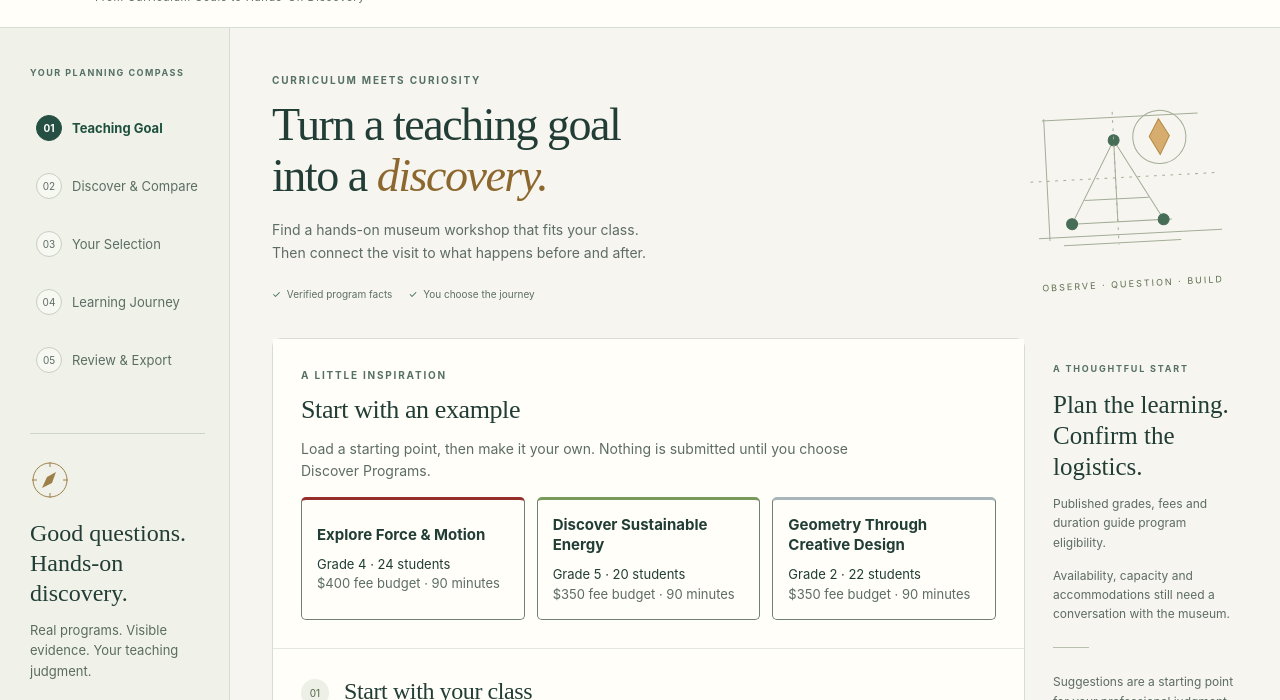
submits current edits only after deliberate validation and consent
Click the button with aria-label "Load Explore Force & Motion example": [413, 558] box [301,497,525,620]
(page scrolled)
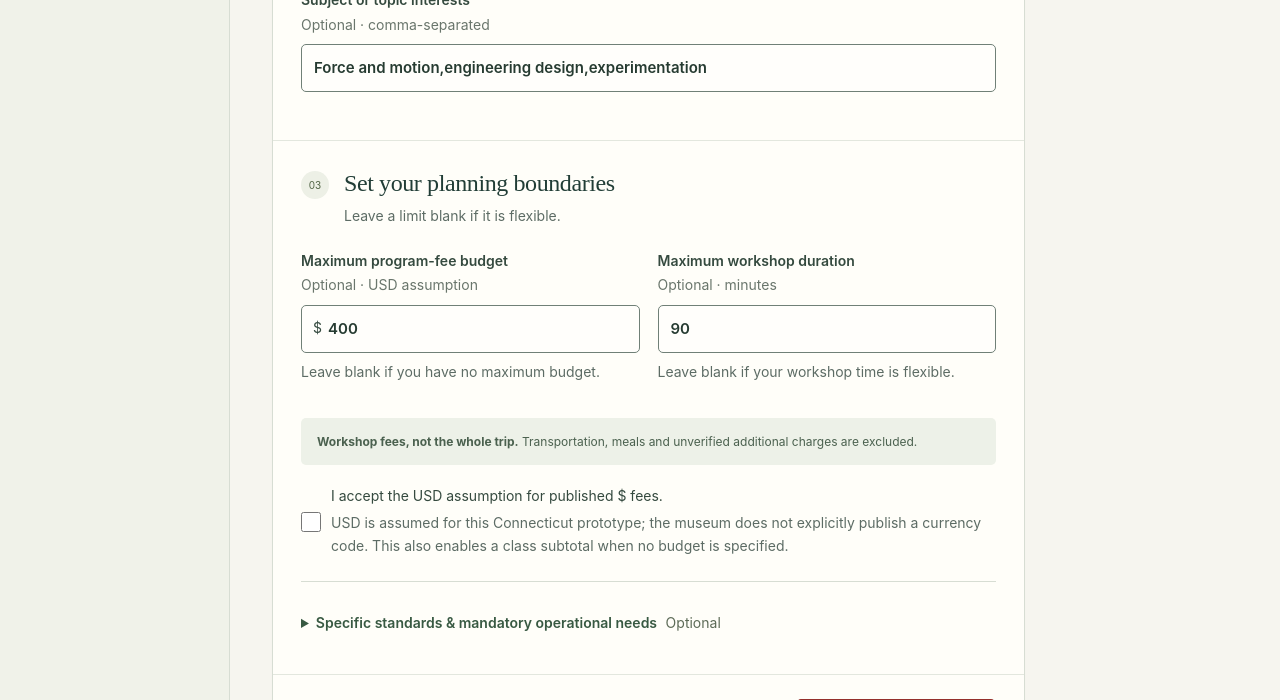
Replace the text in the number field labelled "Maximum program-fee budget" with "380": [470, 329] box [301,305,640,353]
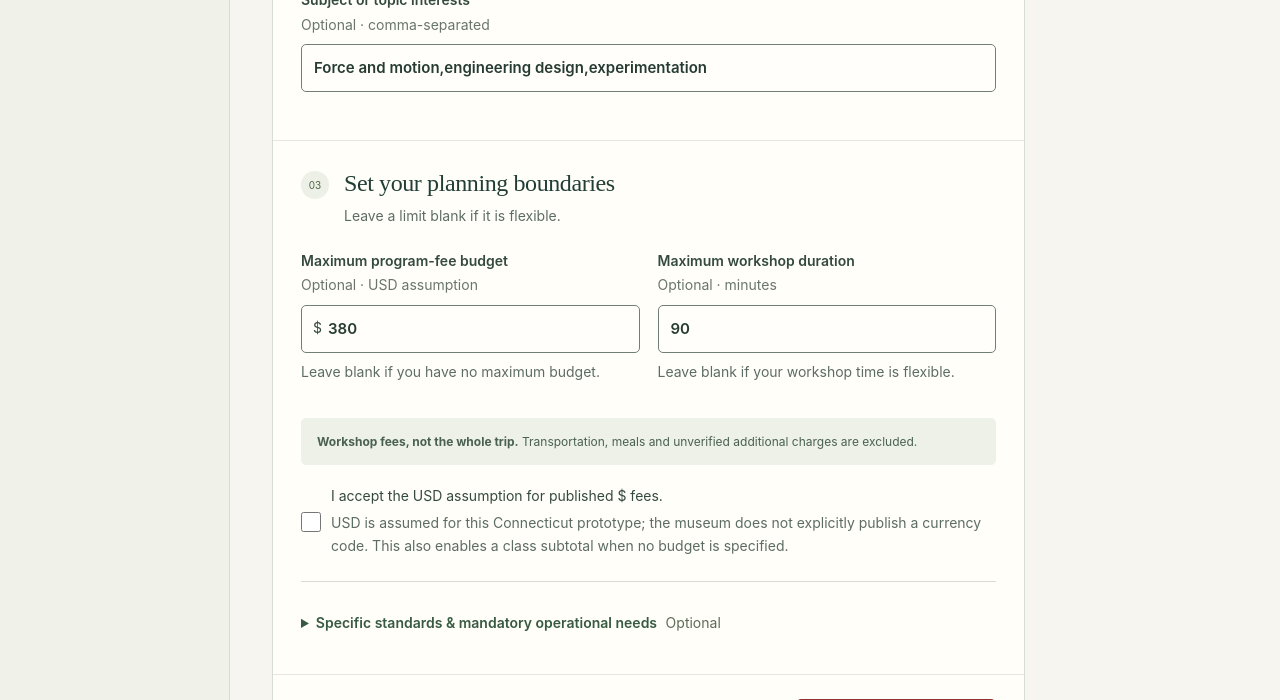
Replace the text in the number field labelled "Maximum workshop duration" with "75": [827, 329] box [658,305,996,353]
(page scrolled)
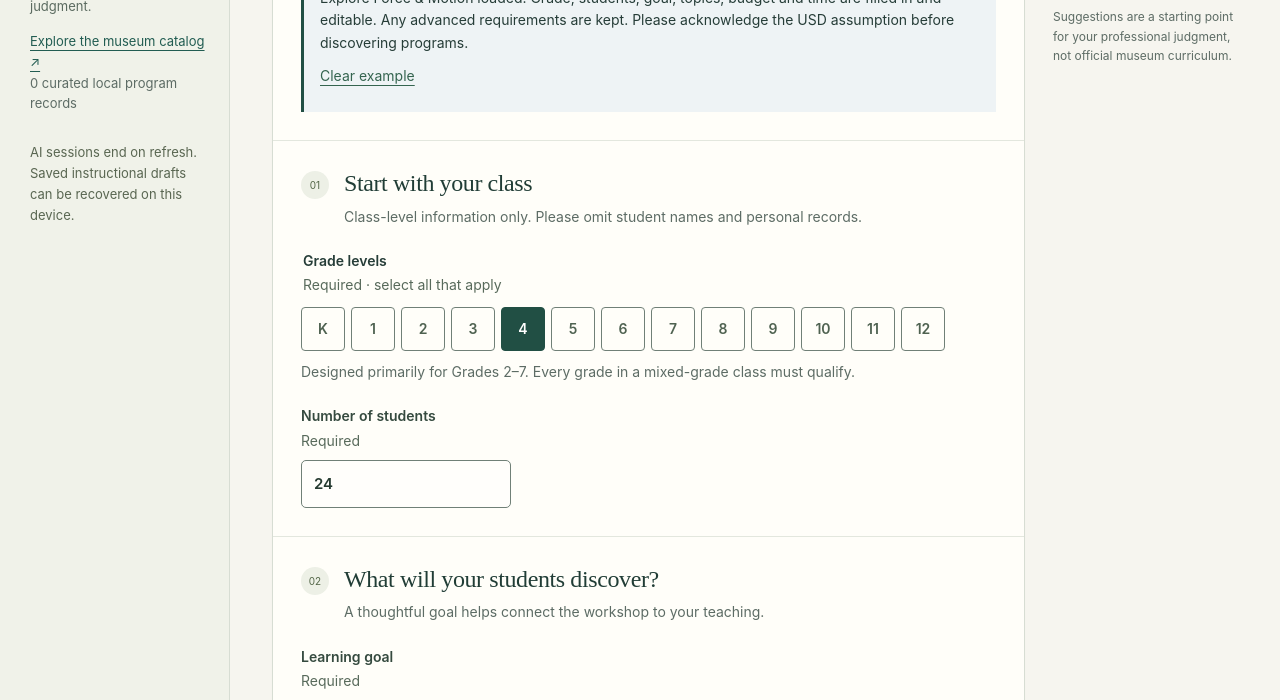
Click the checkbox labelled "3": [473, 329] box [451,307,495,351]
(page scrolled)
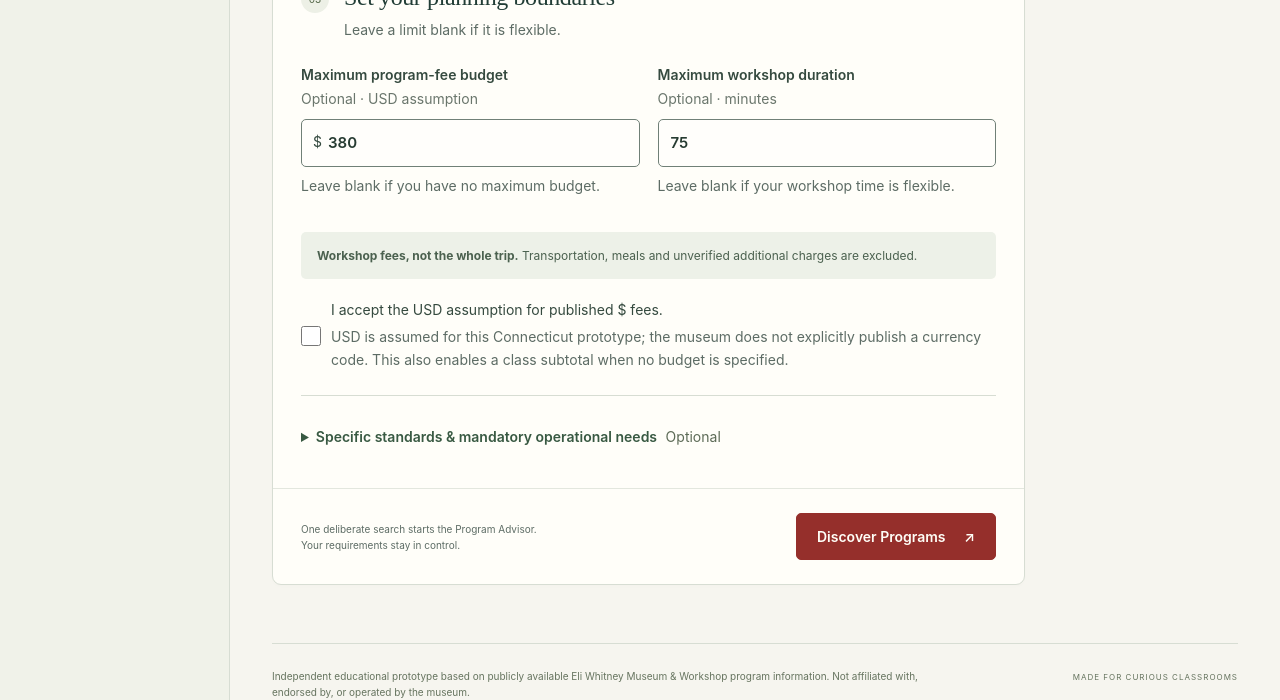
Click the checkbox labelled "I accept the USD": [311, 336] box [301,326,321,346]
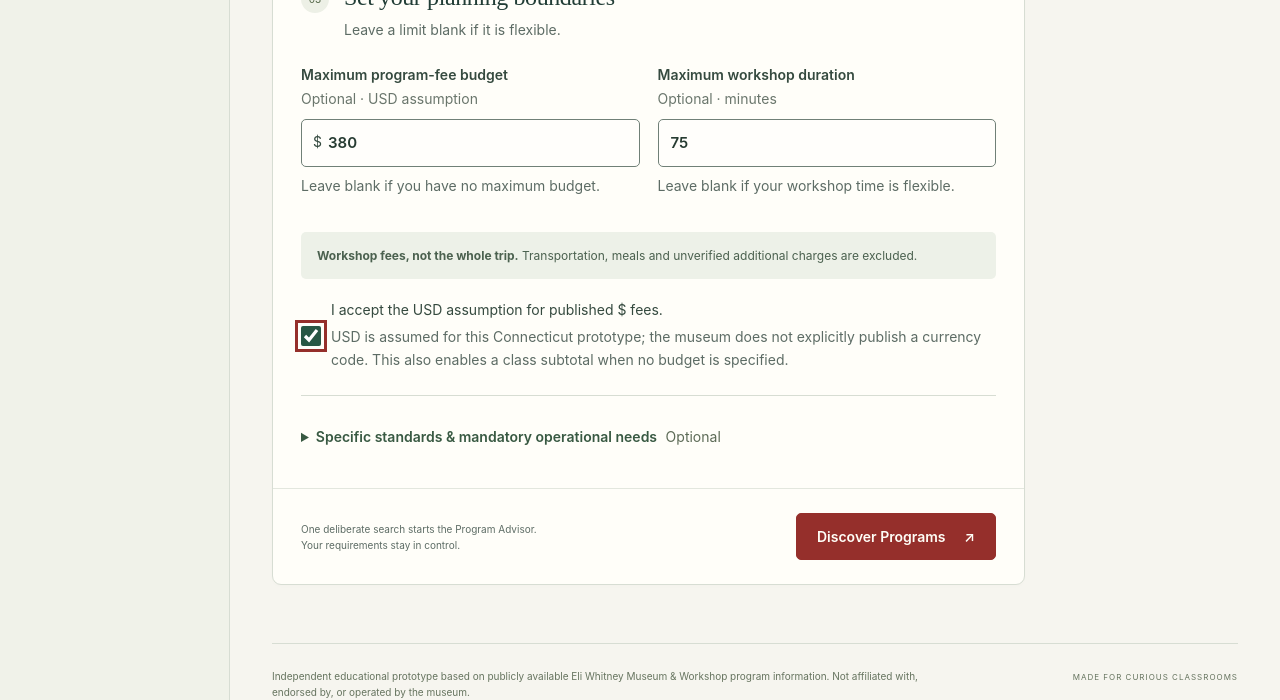
Click the button "Discover Programs ↗": [896, 536] box [796,513,996,560]
(page scrolled)
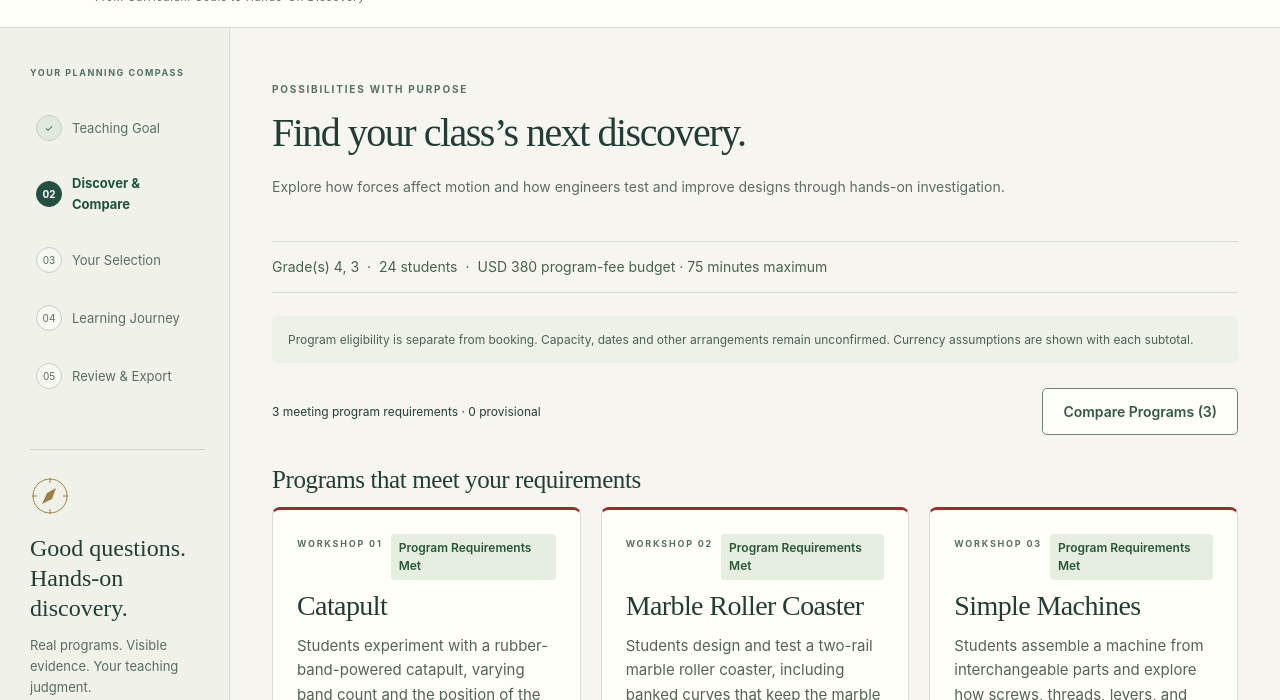
Expected: the heading "Find your class’s next discovery." is shown, [272,110,745,155]
